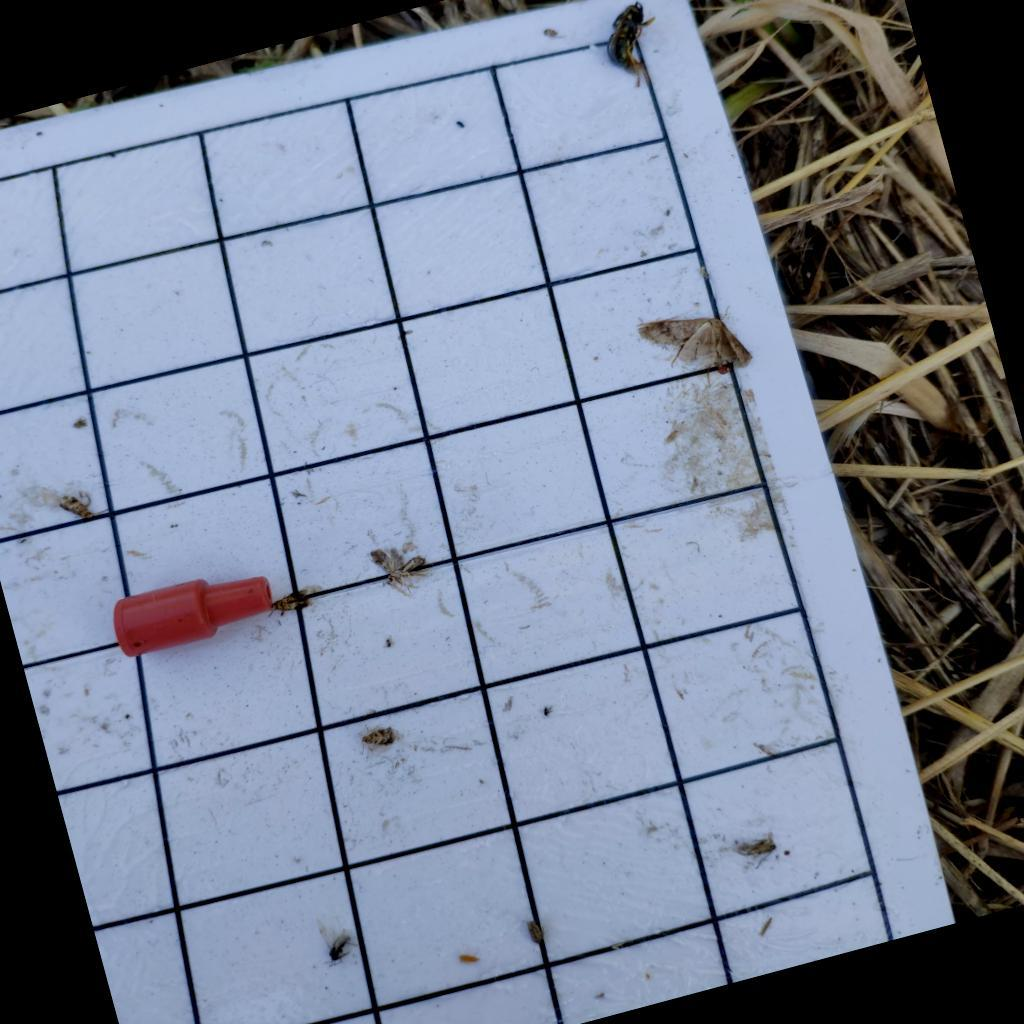grape_moth: (366, 536, 438, 604), (54, 484, 112, 526), (732, 830, 784, 875), (352, 714, 402, 758), (267, 586, 315, 617), (524, 915, 550, 948)
